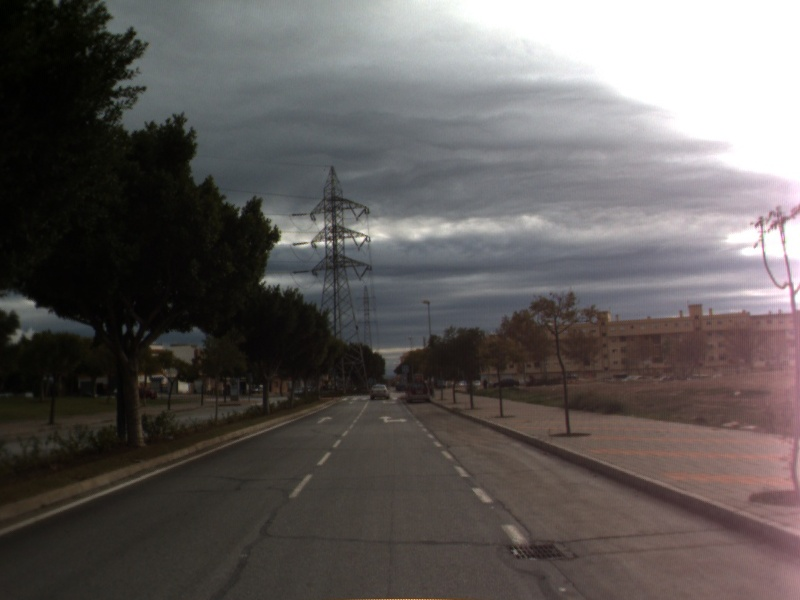STRAIGHT: (315, 414, 335, 425)
STRAIGHT_RIGHT: (377, 413, 409, 425)
